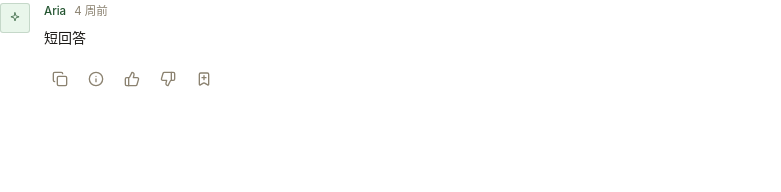
Test case: ProjectChatMessage › restores model-phase timing and the bounded rewrite policy
Check: the text "简短改写 · low" is not shown
Step 1. Click the button named "查看回答详情" → click(96, 79), box [80,63,112,95]
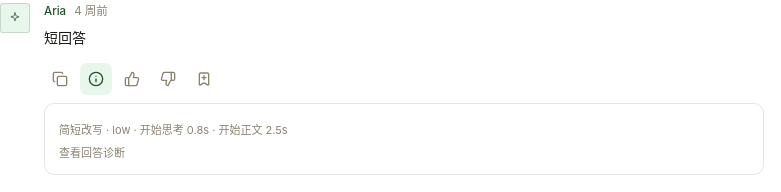
Check: the text "简短改写 · low · 开始思考 0.8s · 开始正文 2.5s" is shown, box [59,123,288,137]
